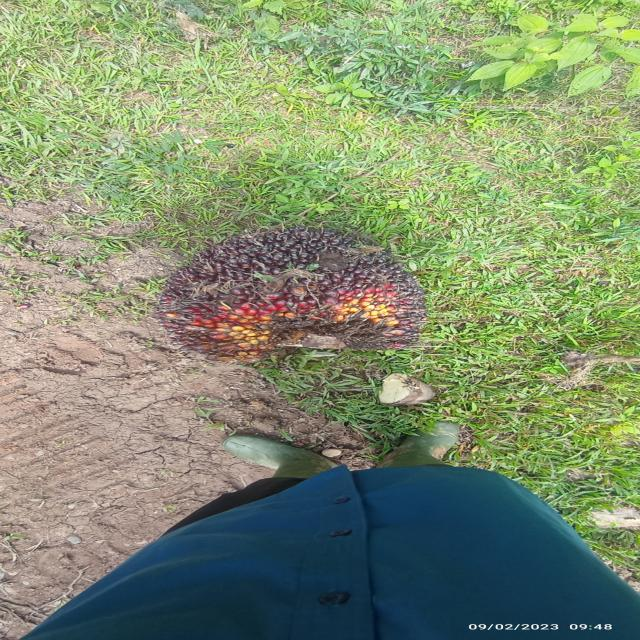fraksi 00: (137, 218, 437, 362)
